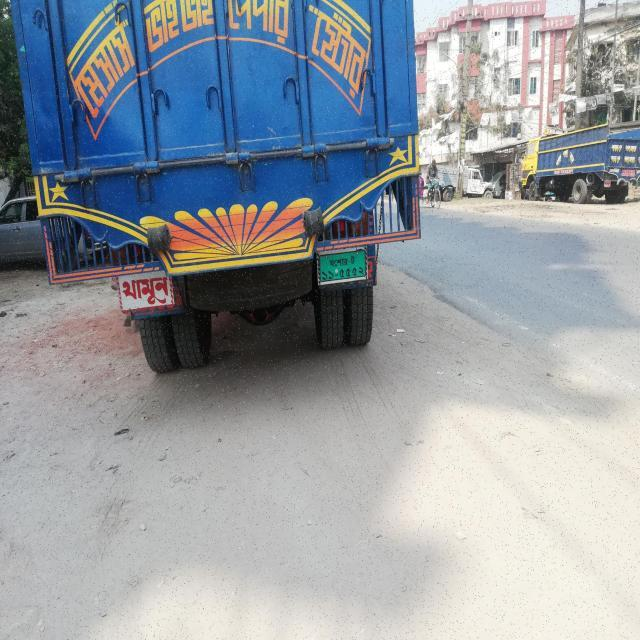numberplate: (315, 248, 368, 285)
